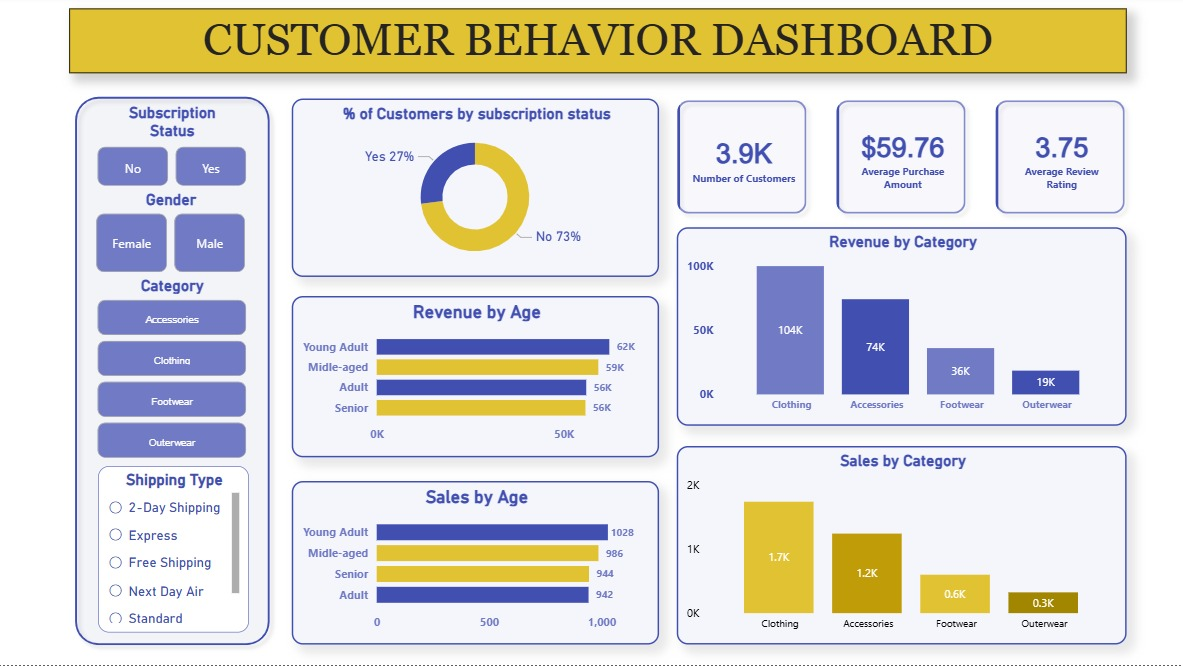

Layout of this report page (visuals, bound fields, positions):
{"tool":"powerbi","page":{"name":"Page 1","canvas":[1280,720],"ordinal":0},"visuals":[{"type":"cardVisual","fields":{"Data":["public customer.Number of Customers","public customer.Average Purchase Amount","public customer.Average Review Rating"]},"box":[707.4,83.4,540.6,180.2],"z":0},{"type":"textbox","box":[82,13.4,1137.7,69.9],"z":1000},{"type":"donutChart","title":"% of Customers by subscription status","fields":{"Category":["public customer.subscription_status"],"Y":["CountNonNull(public customer.customer_id)"]},"box":[321.4,110.3,395.4,192.3],"z":2000},{"type":"clusteredColumnChart","title":"Revenue by Category","fields":{"Category":["public customer.category"],"Y":["Sum(public customer.purchase_amount)"]},"box":[735.6,248.8,484.1,213.8],"z":3000},{"type":"clusteredColumnChart","title":"Sales by Category","fields":{"Category":["public customer.category"],"Y":["public customer.Number of Customers"]},"box":[735.6,484.1,484.1,213.8],"z":4000},{"type":"shape","box":[79.3,99.5,227.3,607.9],"z":5000},{"type":"advancedSlicerVisual","fields":{"Values":["public customer.gender"]},"box":[106.2,208.4,170.8,94.1],"z":6000},{"type":"advancedSlicerVisual","fields":{"Values":["public customer.category"]},"box":[107.6,301.2,170.8,203.1],"z":7000},{"type":"listSlicer","fields":{"Values":["public customer.shipping_type"]},"box":[113,505.7,162.7,178.9],"z":8000},{"type":"advancedSlicerVisual","fields":{"Values":["public customer.subscription_status"]},"box":[107.6,115.7,170.8,94.1],"z":9000},{"type":"clusteredBarChart","title":"Revenue by Age","fields":{"Y":["Sum(public customer.purchase_amount)"],"Category":["public customer.age_group"]},"box":[321.4,322.8,395.4,173.5],"z":10000},{"type":"clusteredBarChart","title":"Sales by Age","fields":{"Category":["public customer.age_group"],"Y":["CountNonNull(public customer.customer_id)"]},"box":[321.4,521.8,395.4,176.2],"z":11000}]}

Visuals, with their boxes in screenshot pixels (x1, y1, x2, y2), scaled from the page's 1280x720 canvas onto the 1183x666 screenshot:
cardVisual - public customer.Number of Customers x public customer.Average Purchase Amount: {"x1": 654, "y1": 77, "x2": 1153, "y2": 244}
textbox: {"x1": 76, "y1": 12, "x2": 1127, "y2": 77}
"% of Customers by subscription status" donutChart: {"x1": 297, "y1": 102, "x2": 662, "y2": 280}
"Revenue by Category" clusteredColumnChart: {"x1": 680, "y1": 230, "x2": 1127, "y2": 428}
"Sales by Category" clusteredColumnChart: {"x1": 680, "y1": 448, "x2": 1127, "y2": 646}
shape: {"x1": 73, "y1": 92, "x2": 283, "y2": 654}
advancedSlicerVisual - public customer.gender: {"x1": 98, "y1": 193, "x2": 256, "y2": 280}
advancedSlicerVisual - public customer.category: {"x1": 99, "y1": 279, "x2": 257, "y2": 466}
listSlicer - public customer.shipping_type: {"x1": 104, "y1": 468, "x2": 255, "y2": 633}
advancedSlicerVisual - public customer.subscription_status: {"x1": 99, "y1": 107, "x2": 257, "y2": 194}
"Revenue by Age" clusteredBarChart: {"x1": 297, "y1": 299, "x2": 662, "y2": 459}
"Sales by Age" clusteredBarChart: {"x1": 297, "y1": 483, "x2": 662, "y2": 646}
